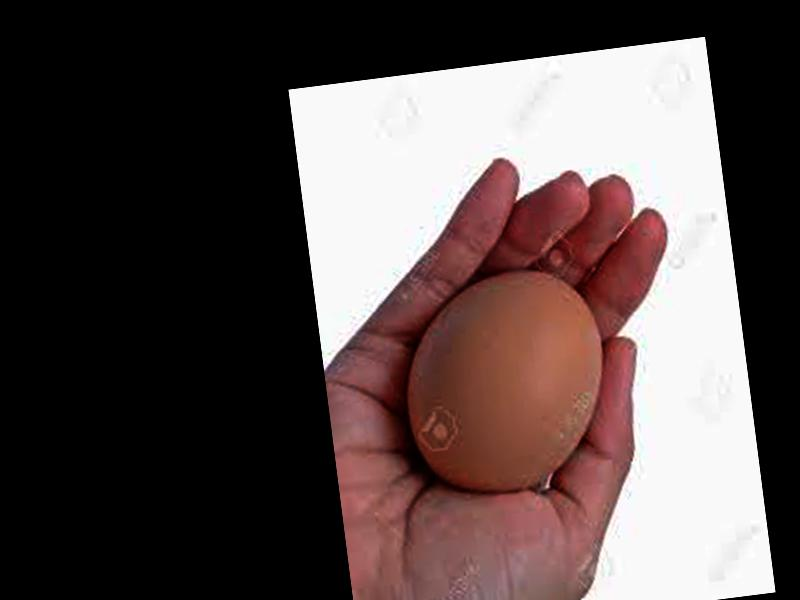Eggs: (394, 260, 618, 503)
